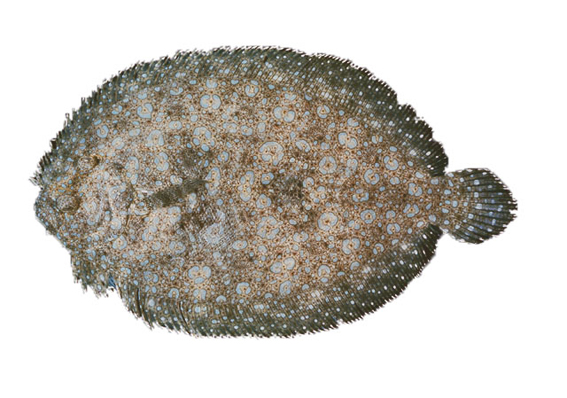fish: (35, 46, 517, 338)
